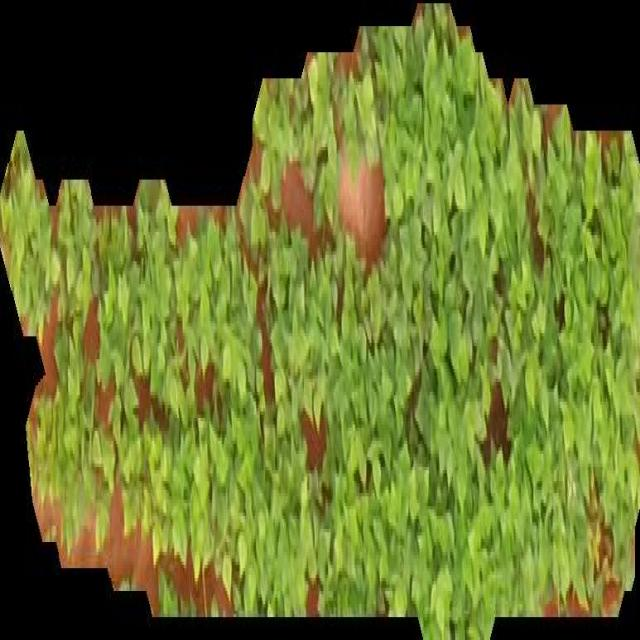Bean: (0, 2, 640, 640)
